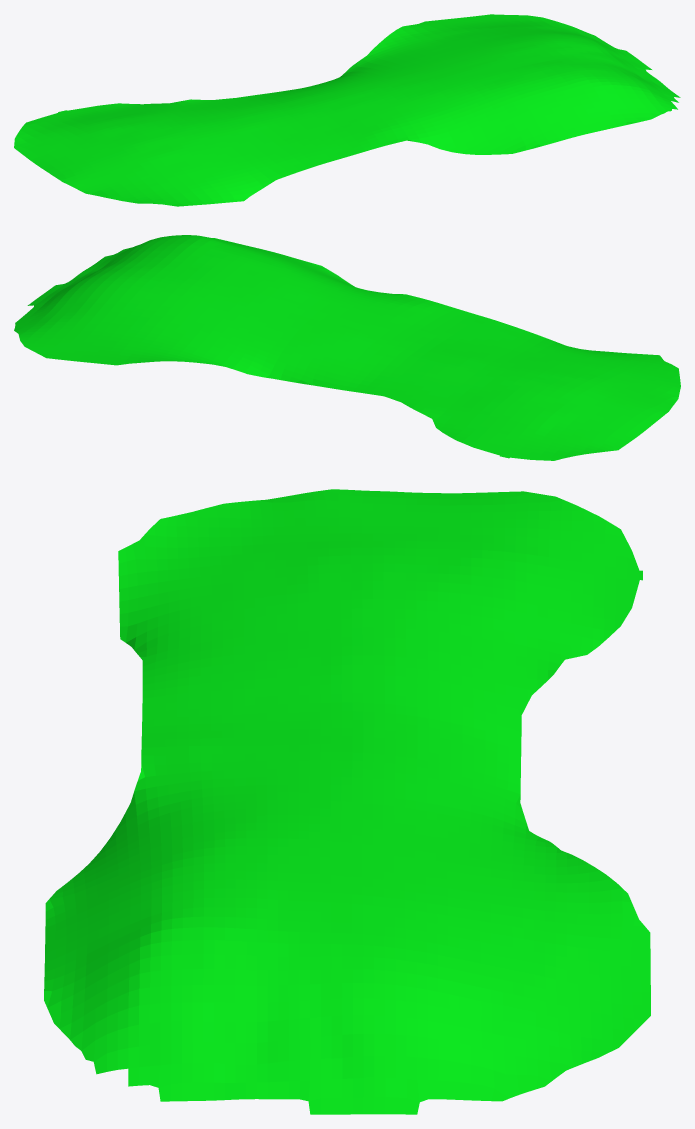
The model's file is holeAndWater.glb.
The picture shows the model from 3 angles, top to bottom: view 1: azimuth 30°, elevation 25°; view 2: azimuth 150°, elevation 25°; view 3: azimuth 270°, elevation 25°; orthographic projection. The views are drawn at different scales.
Parts seen in each view (by area): view 1: Plane; view 2: Plane; view 3: Plane.
Part boxes in pixels (bbox=[...]): Plane: bbox=[14, 14, 680, 206]; Plane: bbox=[14, 235, 680, 460]; Plane: bbox=[44, 489, 650, 1114].
Size of what is drawn, in the model's own units: 75.44 by 5.52 by 33.89.
